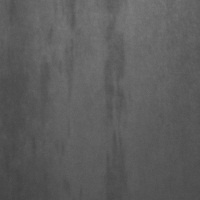inclusion: (101, 5, 134, 197), (55, 4, 87, 112), (32, 55, 58, 130)
